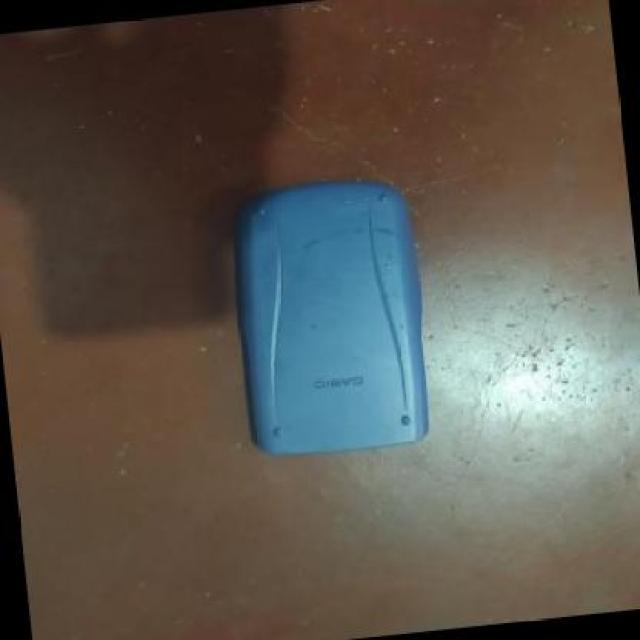Calculator: (220, 163, 443, 465)
